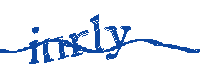i: (29, 27, 40, 67)
l: (91, 14, 104, 53)
n: (42, 34, 67, 65)
r: (69, 28, 87, 58)
y: (106, 23, 131, 62)
